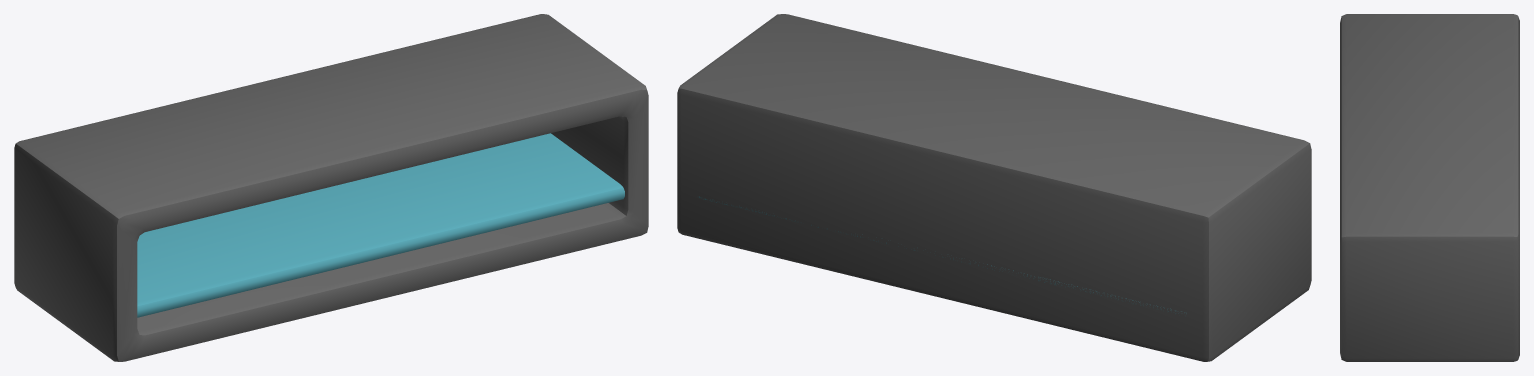
The model's file is SM_stand_tv.fbx.
3 views of the same model, side by side, from view 1: azimuth 30°, elevation 25°; view 2: azimuth 150°, elevation 25°; view 3: azimuth 270°, elevation 25° (orthographic). The views are drawn at different scales.
Parts seen in each view (by area): view 1: Object061; view 2: Object061; view 3: Object061.
Part boxes in pixels (x1,y1,x2,y2): Object061: [14, 14, 648, 361]; Object061: [677, 14, 1311, 361]; Object061: [1340, 14, 1519, 361].
Bounding box in the file's own units: 89.82 × 23.96 × 30.44.
